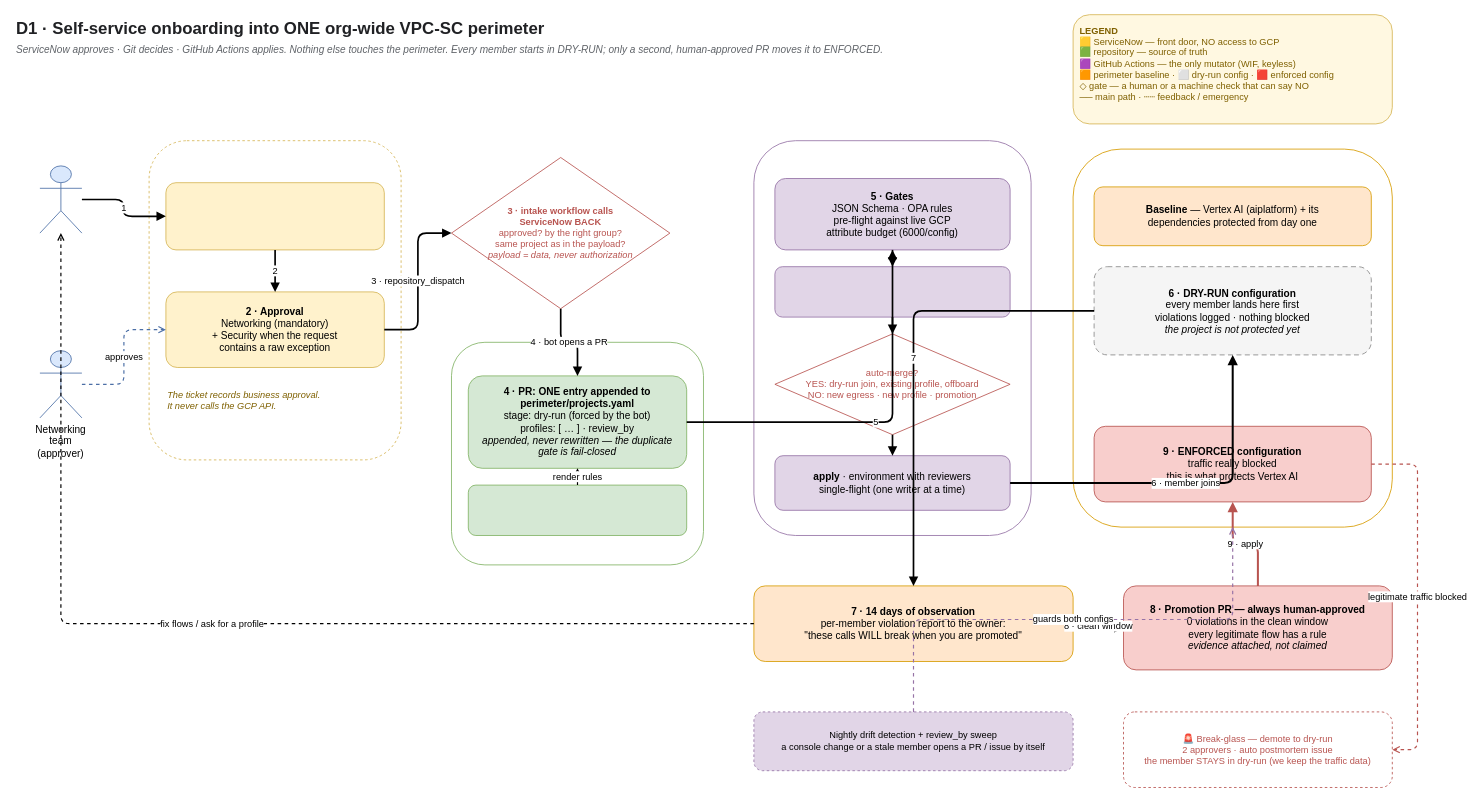
Some shapes in this 1481 by 802 pixel diagram are drawn without their labels. The shapes that lost their labels are listed below. From the top down, each one's box as (x1, y1, x2, y2) in pixels, then its label:
(39, 165, 82, 233): Division team
(165, 182, 384, 250): 1 · Catalog request projects · use-case PROFILE owner group · review date
(148, 140, 401, 460): 🎫 ServiceNow — front door only, no GCP access
(774, 266, 1010, 317): terraform plan → pinned artifact OPA gates run on the PLAN, not the YAML
(753, 140, 1031, 536): ⚙️ GitHub Actions — the only mutator (WIF, keyless)
(1072, 148, 1392, 527): ☁️ ONE org-wide perimeter · ai_core
(451, 341, 704, 565): 📁 GitHub repository — source of truth
(467, 484, 687, 536): perimeter/profiles/*.yaml teams pick a profile, never raw rules
